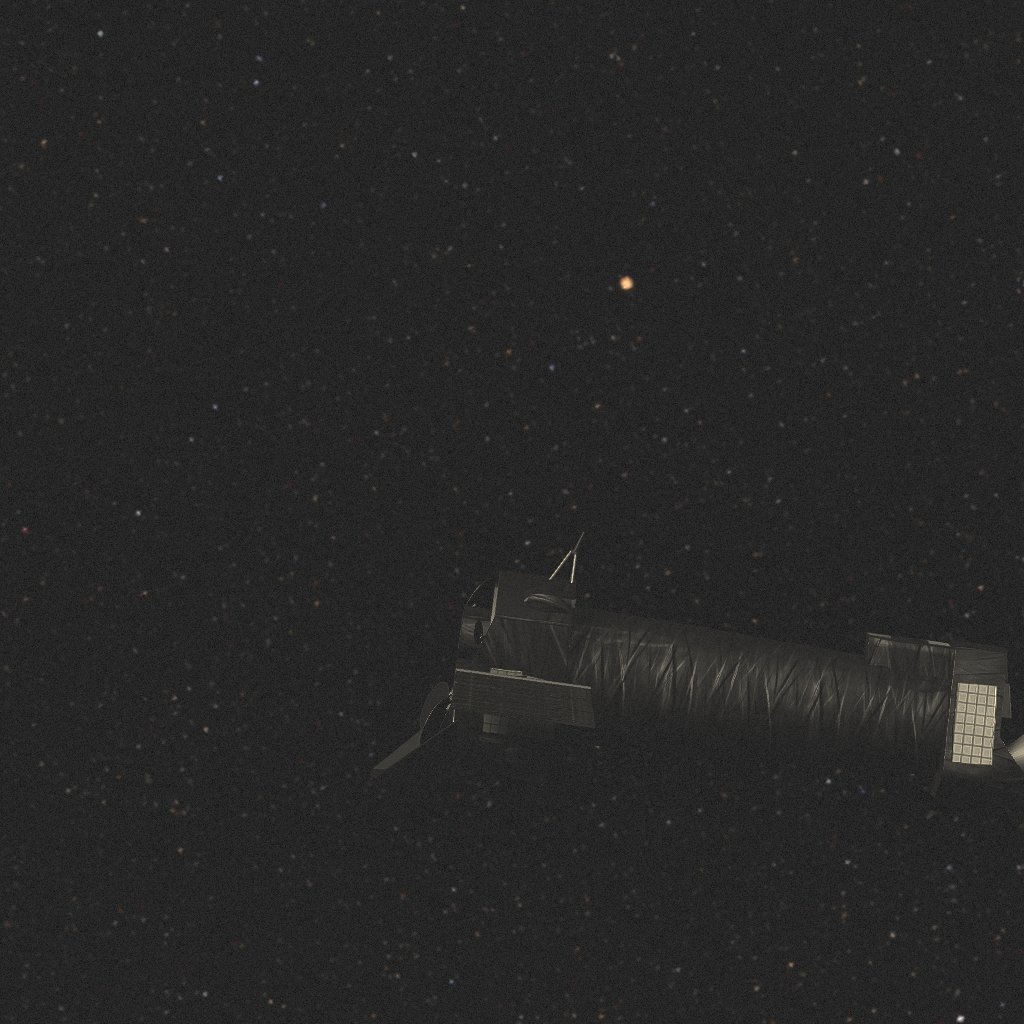xmm_newton: (370, 532, 1024, 824)
